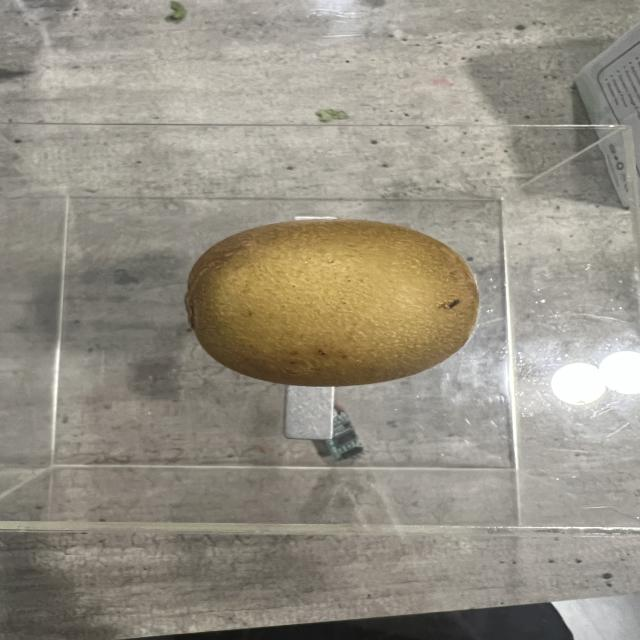kiwi: (187, 221, 479, 388)
